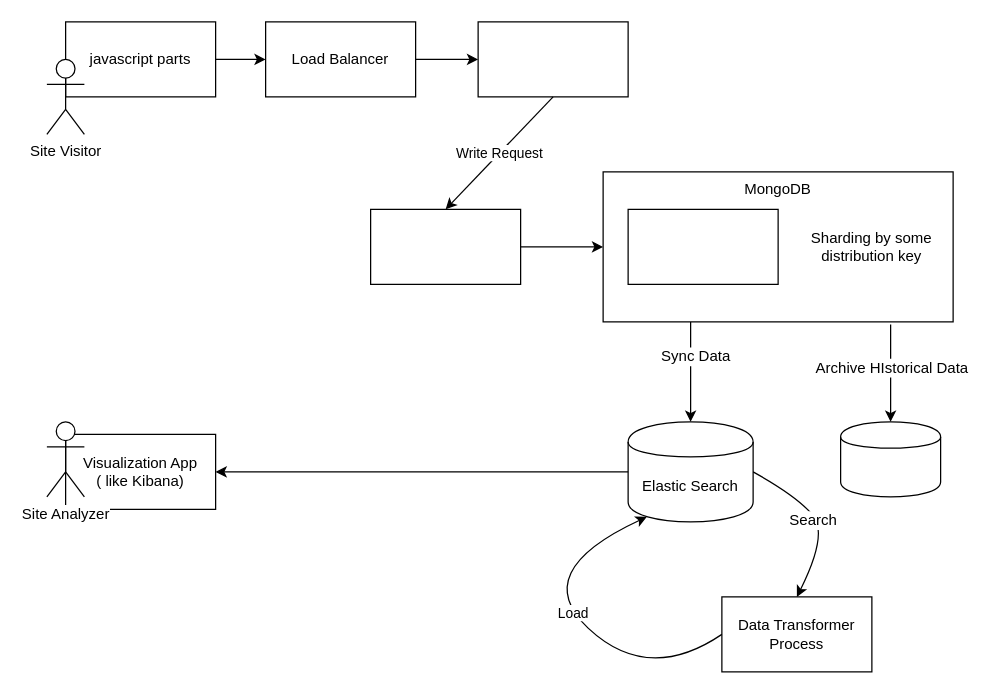
Some shapes in this 989 by 694 pixel diagram are drawn without their labels. Here are the shapes that lost their labels. From the top down, the centre of each, then its label:
the point at 552,59: Data Collector API (Scales Horizontal)
the point at 445,246: mongos-router
the point at 702,246: Replica Set (Master - Slave)
the point at 890,459: Cloud Storage
